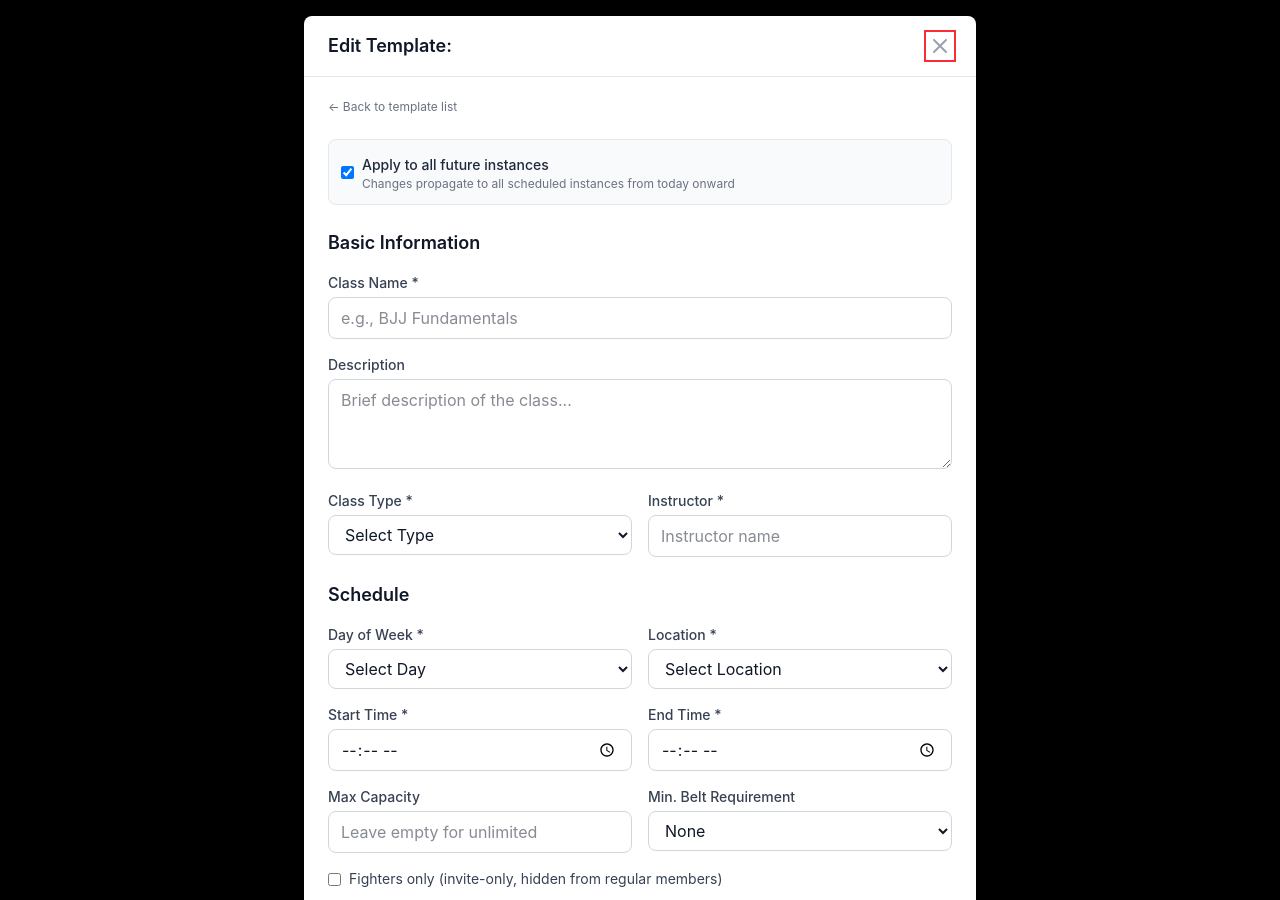
Test case: EditTemplateModal › allows back navigation from edit form
Click the button "← Back to template list".
click(393, 107)  # box [328,99,457,115]
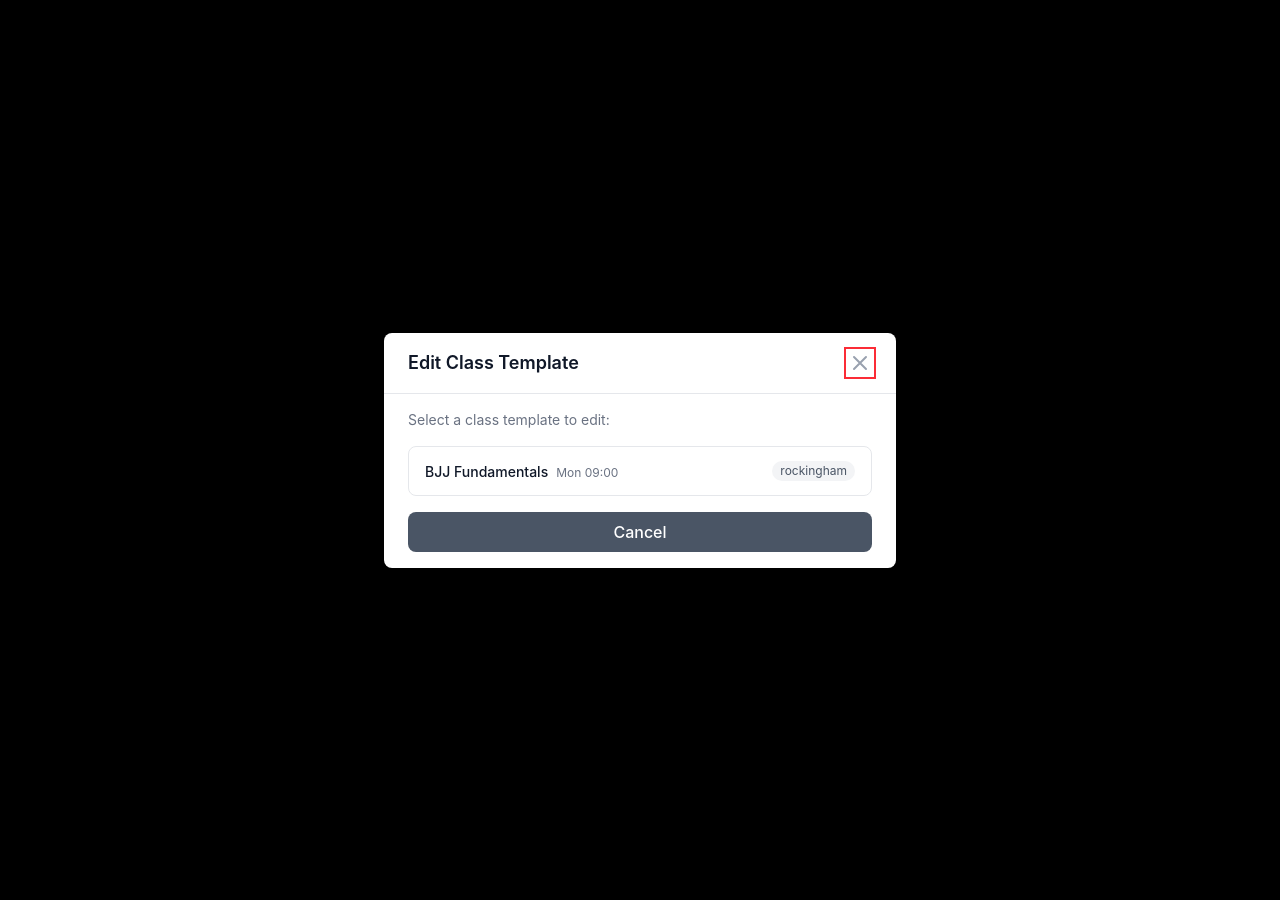
expect the text "Select a class template to edit:" is shown: met, box [408,410,610,428]
